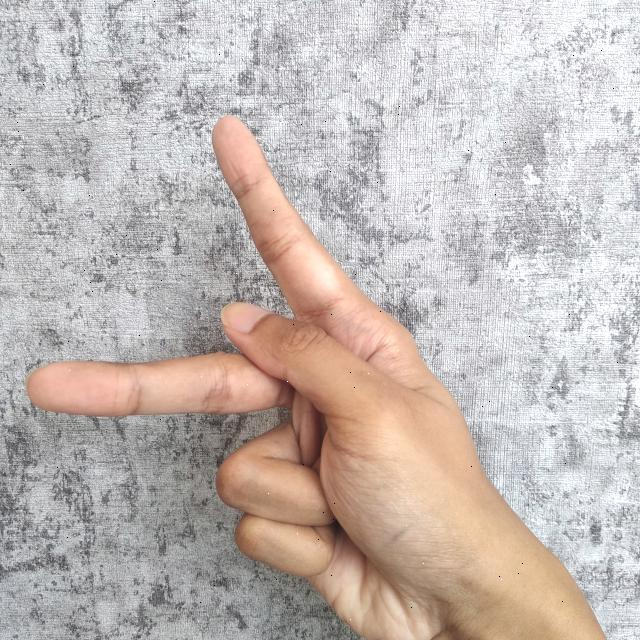K: (15, 109, 613, 640)
